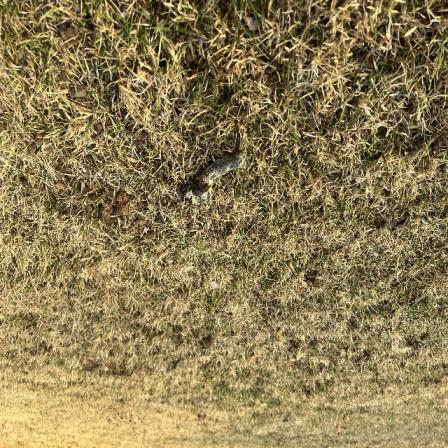dog-poop: (180, 148, 258, 206)
